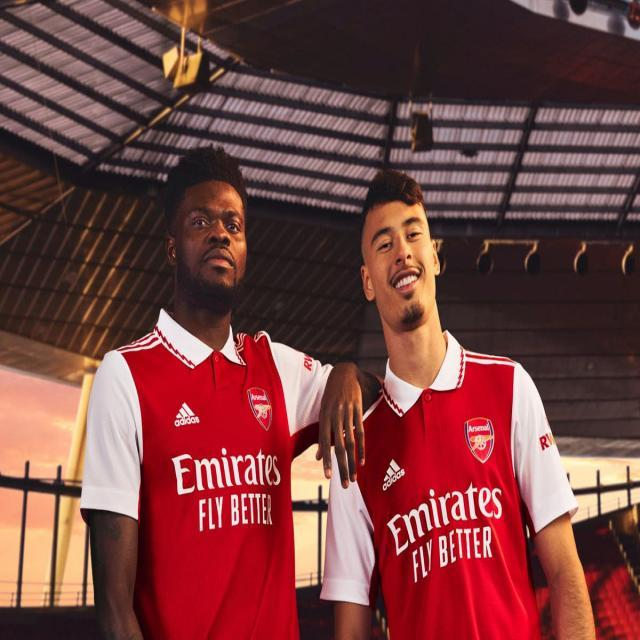Adidas: (381, 457, 406, 490), (175, 399, 201, 429)
Emirates: (382, 483, 503, 558), (171, 447, 282, 496)
